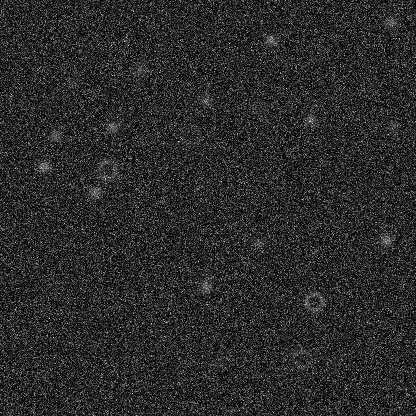Ring: (290, 346, 314, 370), (177, 123, 201, 147), (302, 289, 326, 313), (95, 157, 119, 181)
Spot: (237, 257, 253, 273), (384, 119, 400, 135), (86, 184, 102, 200), (250, 236, 266, 252), (262, 32, 278, 48), (104, 119, 120, 135), (211, 354, 227, 370), (251, 99, 267, 115), (47, 127, 63, 143), (302, 112, 318, 128), (63, 75, 79, 91), (36, 159, 52, 175), (198, 92, 214, 108), (132, 61, 148, 77), (199, 269, 215, 285), (197, 279, 213, 295), (383, 14, 399, 30), (377, 232, 393, 248)
